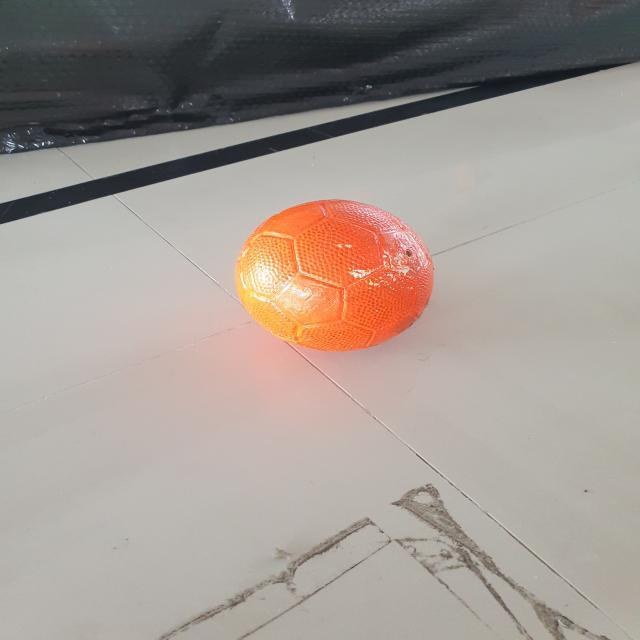bola: (214, 176, 454, 362)
